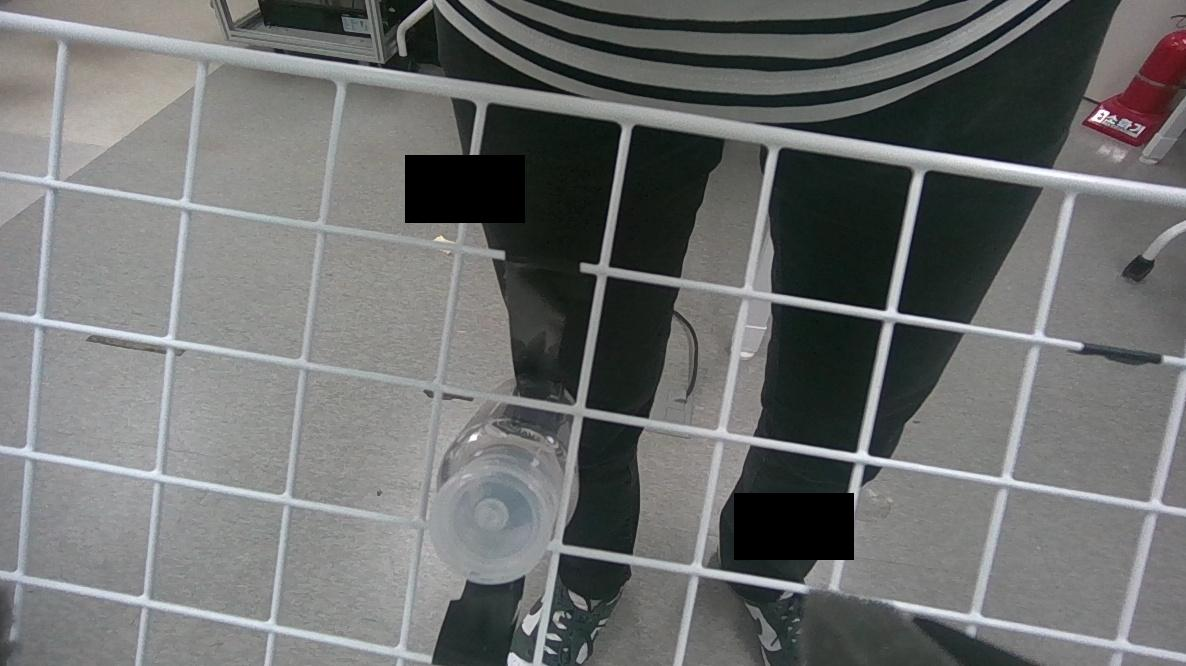Cap: (429, 457, 549, 592)
